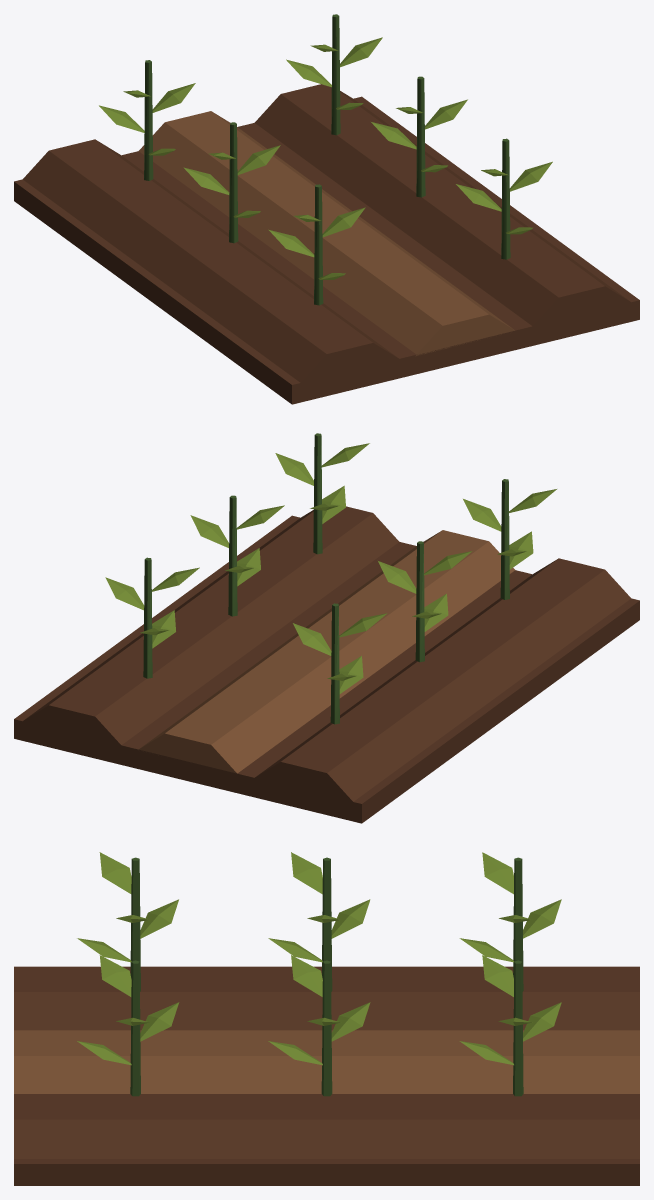
Rendered from 58_herb_garden.fbx.
The picture shows the model from 3 angles, top to bottom: view 1: azimuth 30°, elevation 25°; view 2: azimuth 150°, elevation 25°; view 3: azimuth 270°, elevation 25°; orthographic projection. The views are drawn at different scales.
Visible parts, largest first — view 1: 58_herb_garden; view 2: 58_herb_garden; view 3: 58_herb_garden.
Boxes of the visible parts, x1=… form: 58_herb_garden: x1=14, y1=14, x2=639, y2=404; 58_herb_garden: x1=14, y1=433, x2=639, y2=823; 58_herb_garden: x1=14, y1=852, x2=639, y2=1185.
Size of the model in its own units: 1.3 by 0.57 by 1.8.
1 material, 1 textured.
